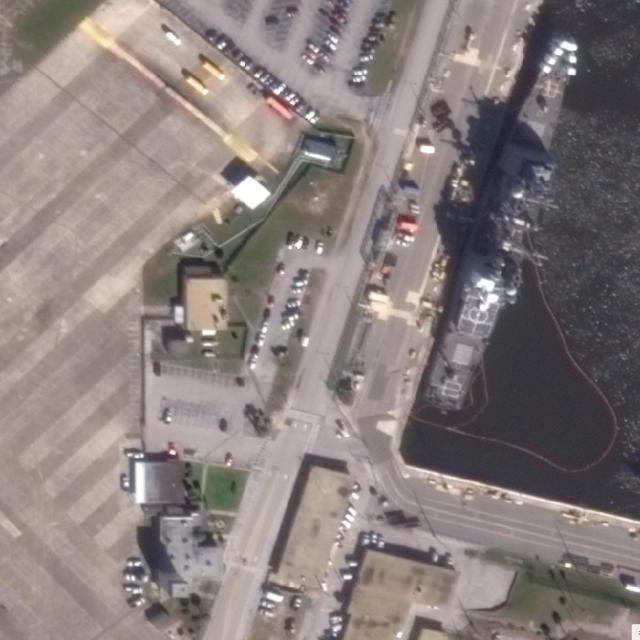Cruiser: (424, 31, 582, 414)
